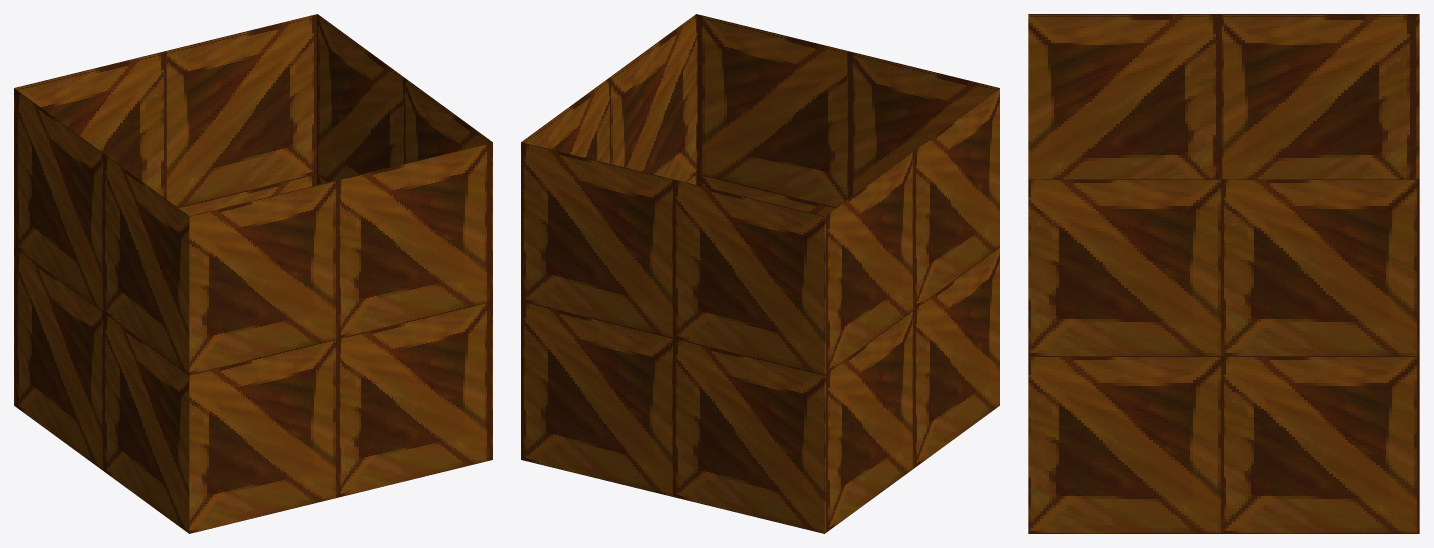
File: especialBox.fbx
3 renders of one model, left to right at view 1: azimuth 30°, elevation 25°; view 2: azimuth 150°, elevation 25°; view 3: azimuth 270°, elevation 25°, orthographic. The views are drawn at different scales.
Parts seen in each view (by area): view 1: especial box; view 2: especial box; view 3: especial box.
Boxes of the visible parts, box(x1,y1,x2,y2) form: especial box: box(14, 14, 492, 533); especial box: box(521, 14, 999, 533); especial box: box(1028, 14, 1419, 533).
Bounding box in the file's own units: 3012 × 3012 × 3012.
